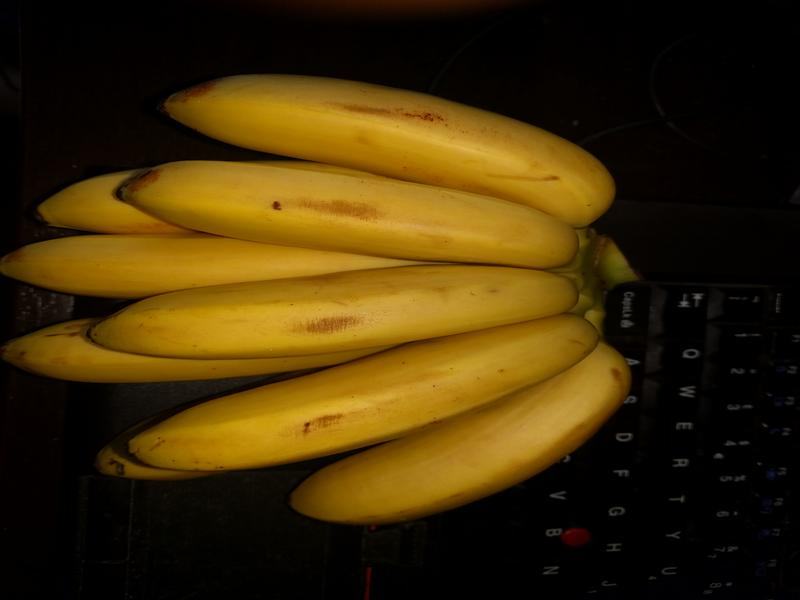banana: (1, 39, 646, 534)
